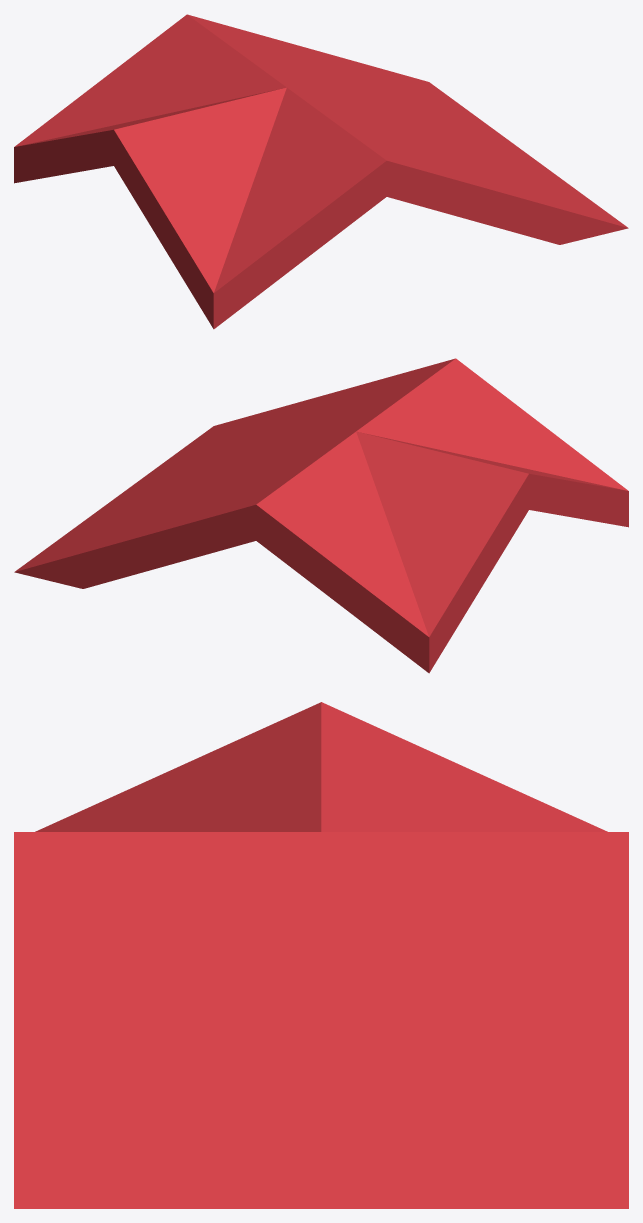
File: roof_small_3_corner.glb
3 renders of one model, top to bottom at view 1: azimuth 30°, elevation 25°; view 2: azimuth 150°, elevation 25°; view 3: azimuth 270°, elevation 25°, orthographic. The views are drawn at different scales.
Parts seen in each view (by area): view 1: roof_small_3_corner; view 2: roof_small_3_corner; view 3: roof_small_3_corner.
Part boxes in pixels (box(x1,y1,x2,y2)): roof_small_3_corner: box(14, 14, 628, 329); roof_small_3_corner: box(14, 358, 628, 673); roof_small_3_corner: box(14, 702, 628, 1208).
Bounding box in the file's own units: 1.2 × 0.35 × 1.
